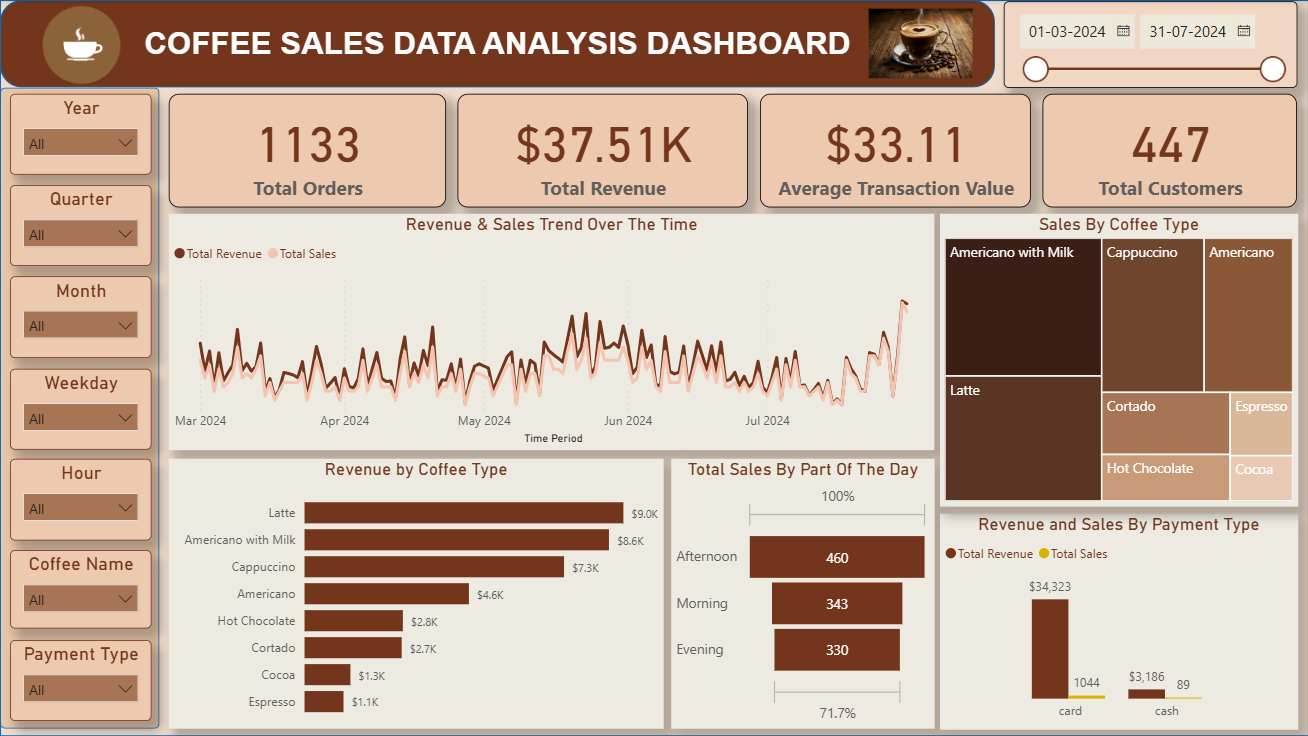

The dashboard page shown, as its layout file describes it:
{"tool":"powerbi","page":{"name":"Page 4","canvas":[1280,720],"ordinal":3},"visuals":[{"type":"shape","box":[0,0,1280,720],"z":0},{"type":"shape","box":[0,0,973,85.6],"z":1000},{"type":"image","box":[28,1,103,86],"z":2000},{"type":"card","fields":{"Values":["CountNonNull(coffee_salesdata.transaction_date)"]},"box":[165,92,271,111],"z":3000},{"type":"slicer","fields":{"Values":["coffee_salesdata.transaction_date"]},"box":[982,1,287,85],"z":4000},{"type":"shape","box":[0,86,156,627],"z":5000},{"type":"card","fields":{"Values":["Sum(coffee_salesdata.transaction_amount)"]},"box":[447,92,284,111],"z":6000},{"type":"card","fields":{"Values":["Avg(coffee_salesdata.transaction_amount)"]},"box":[743,92,265,111],"z":7000},{"type":"card","fields":{"Values":["Count(coffee_salesdata.customer)"]},"box":[1020,92,249,111],"z":8000},{"type":"slicer","title":"Year","fields":{"Values":["coffee_salesdata.year"]},"box":[10,92,138,79],"z":9000},{"type":"slicer","title":"Quarter","fields":{"Values":["coffee_salesdata.quarter"]},"box":[10,181,138,79],"z":10000},{"type":"slicer","title":"Month","fields":{"Values":["coffee_salesdata.month"]},"box":[10,270,138,80],"z":11000},{"type":"slicer","title":"Weekday","fields":{"Values":["coffee_salesdata.weekday"]},"box":[10,361,138,79],"z":12000},{"type":"slicer","title":"Hour","fields":{"Values":["coffee_salesdata.hour"]},"box":[10,449,138,80],"z":13000},{"type":"slicer","title":"Coffee Name","fields":{"Values":["coffee_salesdata.coffee_name"]},"box":[10,538,138,77],"z":14000},{"type":"slicer","title":"Payment Type","fields":{"Values":["coffee_salesdata.payment_type"]},"box":[10,626,138,79],"z":15000},{"type":"lineChart","title":"Revenue & Sales Trend Over The Time","fields":{"Y":["Sum(coffee_salesdata.transaction_amount)"],"Category":["coffee_salesdata.transaction_date.Variation.Date Hierarchy.Year","coffee_salesdata.transaction_date.Variation.Date Hierarchy.Quarter","coffee_salesdata.transaction_date.Variation.Date Hierarchy.Month","coffee_salesdata.transaction_date.Variation.Date Hierarchy.Day"],"Y2":["CountNonNull(coffee_salesdata.transaction_date)"]},"box":[165,209,749,231],"z":16000},{"type":"barChart","title":"Revenue by Coffee Type","fields":{"Category":["coffee_salesdata.coffee_name"],"Y":["Sum(coffee_salesdata.transaction_amount)"]},"box":[165,448.6,484.1,264],"z":17000},{"type":"funnel","title":"Total Sales By Part Of The Day","fields":{"Category":["coffee_salesdata.part of day"],"Y":["CountNonNull(coffee_salesdata.transaction_date)"]},"box":[656.4,448.6,257.9,264],"z":18000},{"type":"clusteredColumnChart","title":"Revenue and Sales By Payment Type","fields":{"Category":["coffee_salesdata.payment_type"],"Y":["Sum(coffee_salesdata.transaction_amount)","CountNonNull(coffee_salesdata.transaction_date)"]},"box":[919,502,350,211],"z":19000},{"type":"treemap","title":"Sales By Coffee Type","fields":{"Group":["coffee_salesdata.coffee_name"],"Values":["CountNonNull(coffee_salesdata.transaction_date)"]},"box":[919,209,350,286],"z":20000},{"type":"image","box":[845,4,111,78],"z":21000}]}

Visuals, with their boxes in screenshot pixels (x1, y1, x2, y2), scaled from the page's 1280x720 canvas onto the 1308x736 screenshot:
shape: 0,0,1307,735
shape: 0,0,994,88
image: 29,1,134,89
card - CountNonNull(coffee_salesdata.transaction_date): 169,94,446,208
slicer - coffee_salesdata.transaction_date: 1003,1,1297,88
shape: 0,88,159,729
card - Sum(coffee_salesdata.transaction_amount): 457,94,747,208
card - Avg(coffee_salesdata.transaction_amount): 759,94,1030,208
card - Count(coffee_salesdata.customer): 1042,94,1297,208
"Year" slicer: 10,94,151,175
"Quarter" slicer: 10,185,151,266
"Month" slicer: 10,276,151,358
"Weekday" slicer: 10,369,151,450
"Hour" slicer: 10,459,151,541
"Coffee Name" slicer: 10,550,151,629
"Payment Type" slicer: 10,640,151,721
"Revenue & Sales Trend Over The Time" lineChart: 169,214,934,450
"Revenue by Coffee Type" barChart: 169,459,663,728
"Total Sales By Part Of The Day" funnel: 671,459,934,728
"Revenue and Sales By Payment Type" clusteredColumnChart: 939,513,1297,729
"Sales By Coffee Type" treemap: 939,214,1297,506
image: 863,4,977,84
